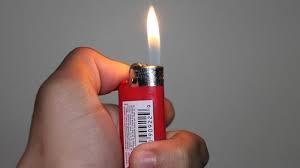lighter: (115, 63, 169, 168)
